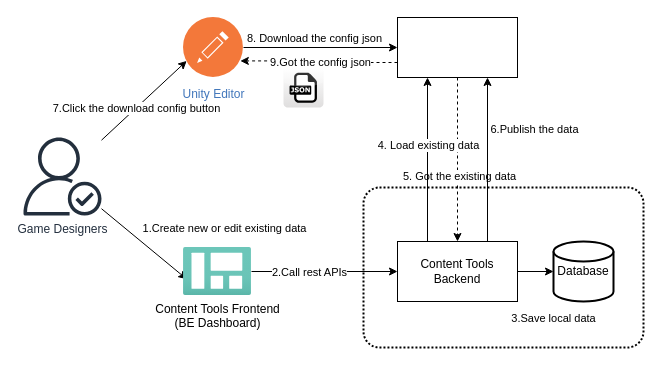
Image size: 661x366. Some labels were removed from this diagram. Here are the shapes that lost their labels. From the top down, the box of each, then its label:
(396, 16, 518, 78): Google Sheets Service
(362, 186, 644, 348): BE Server
